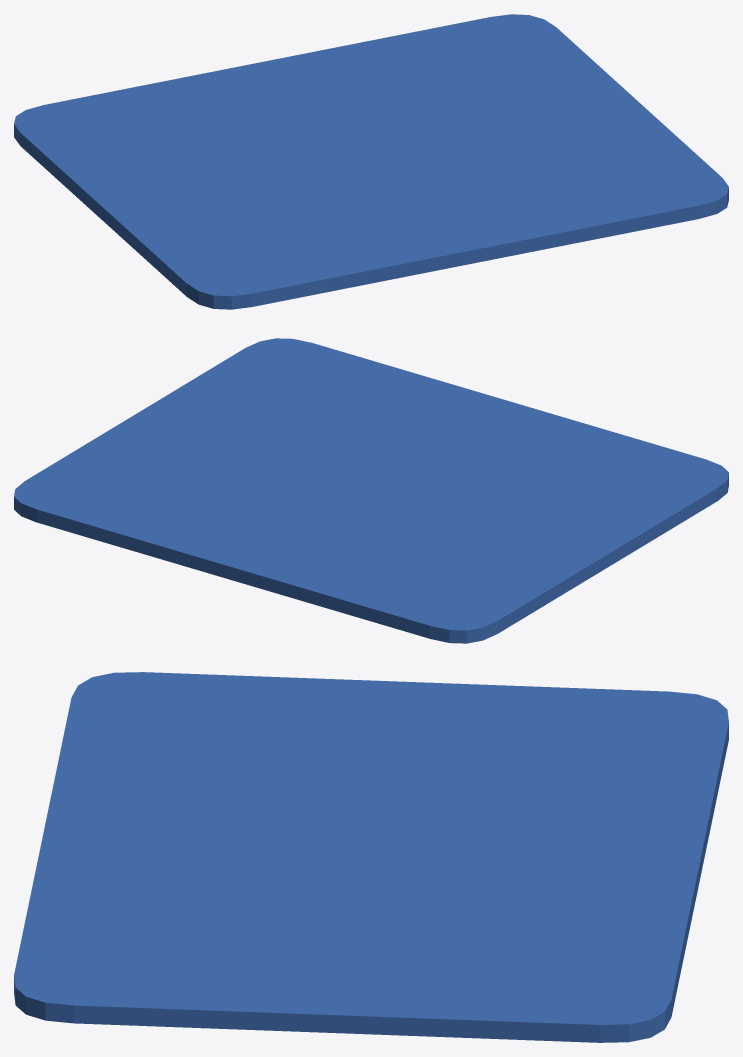
File: mousepad.FBX
3 views of the same model, one above another, from view 1: azimuth 30°, elevation 25°; view 2: azimuth 150°, elevation 25°; view 3: azimuth 270°, elevation 25° (orthographic). The views are drawn at different scales.
Parts seen in each view (by area): view 1: mousepad; view 2: mousepad; view 3: mousepad.
Boxes of the visible parts, x1=… form: mousepad: x1=14, y1=14, x2=728, y2=309; mousepad: x1=14, y1=338, x2=728, y2=643; mousepad: x1=14, y1=672, x2=728, y2=1042.
Size of the model in its own units: 15.47 by 0.3668 by 13.24.
